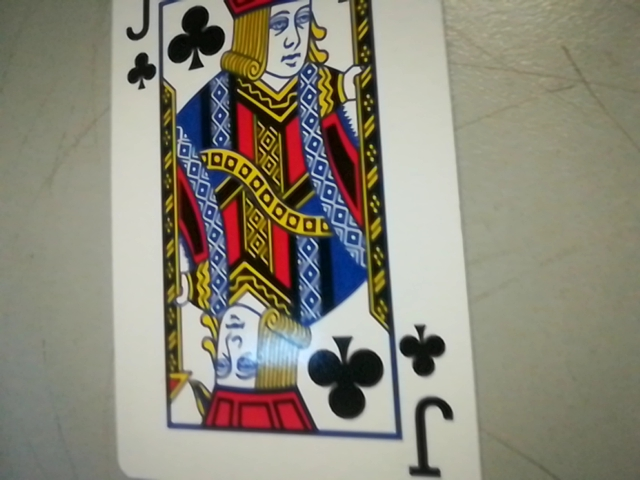mh j: (392, 312, 469, 480)
